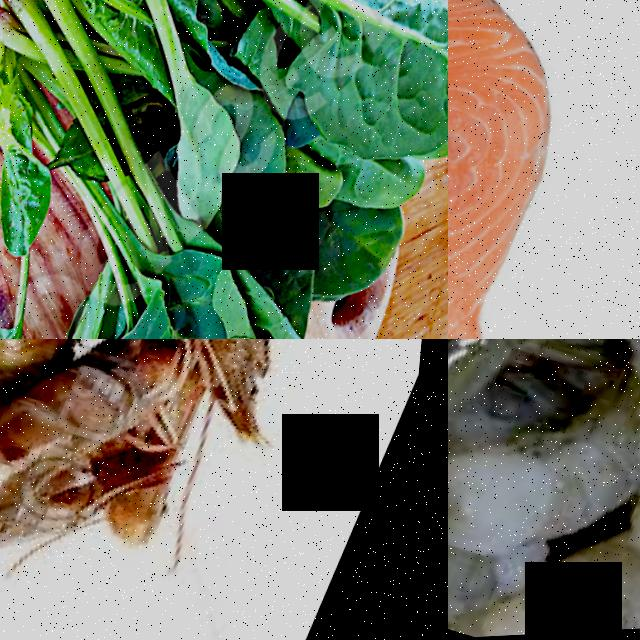salmon: (448, 0, 640, 339)
shrimp: (448, 373, 640, 601), (0, 349, 152, 583), (448, 339, 534, 619)
spinach: (267, 0, 448, 209), (146, 85, 323, 256), (84, 262, 348, 339), (321, 203, 422, 314), (0, 141, 76, 262)
